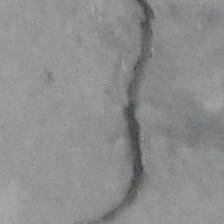Crack: (92, 0, 184, 224)
